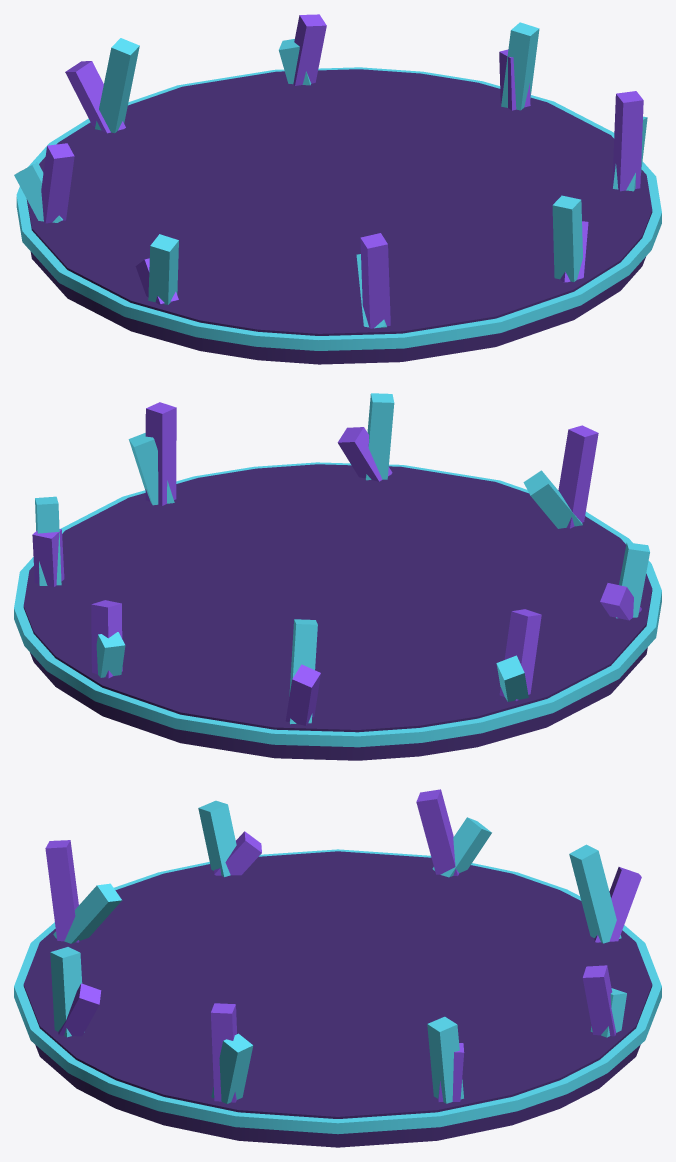
The model's file is prism_plinth.obj.
3 renders of one model, top to bottom at view 1: azimuth 30°, elevation 25°; view 2: azimuth 150°, elevation 25°; view 3: azimuth 270°, elevation 25°, orthographic.
Parts seen in each view (by area): view 1: prism_plinth; view 2: prism_plinth; view 3: prism_plinth.
Part boxes in pixels (bbox=[...]): prism_plinth: bbox=[14, 14, 661, 364]; prism_plinth: bbox=[14, 393, 661, 760]; prism_plinth: bbox=[14, 789, 661, 1147].
Size of the model in its own units: 26.8 by 5.55 by 26.8.
